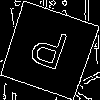P: (24, 25, 71, 80)
